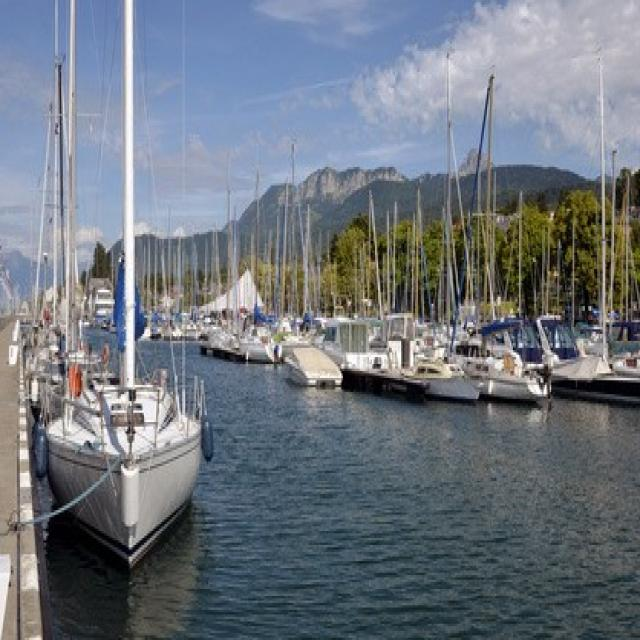fishing boat: (43, 333, 204, 570)
